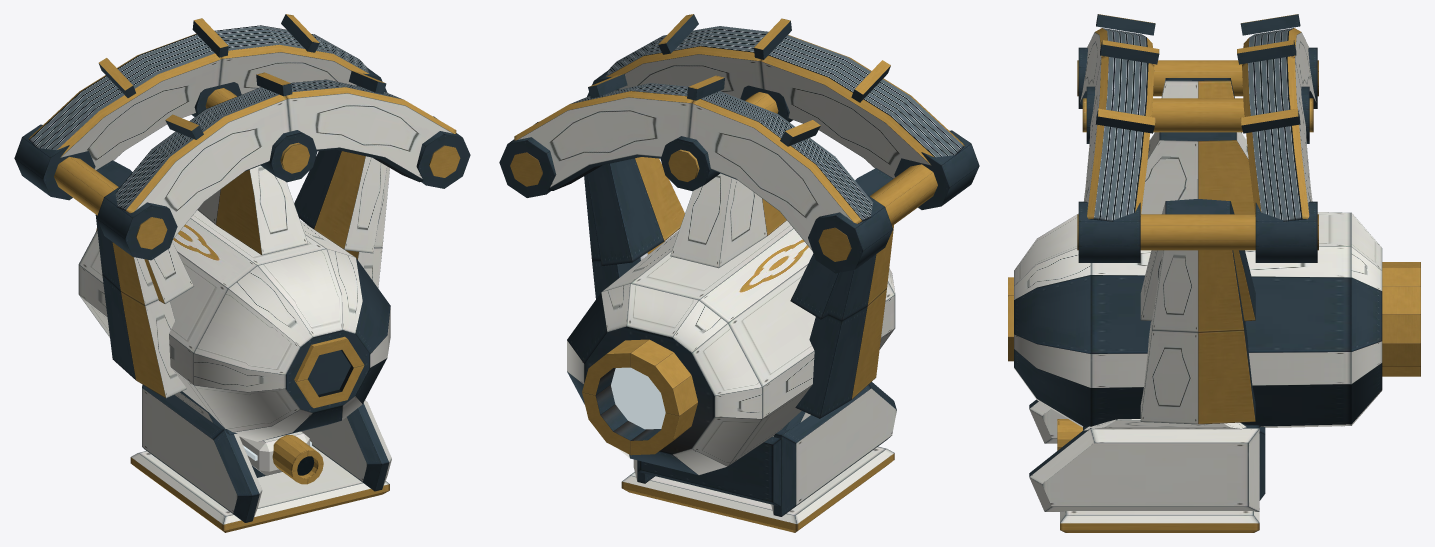
File: cassini-europa-l01-laser.glb
3 views of the same model, side by side, from view 1: azimuth 30°, elevation 25°; view 2: azimuth 150°, elevation 25°; view 3: azimuth 270°, elevation 25° (orthographic). The views are drawn at different scales.
Parts seen in each view (by area): view 1: Drone; view 2: Drone; view 3: Drone.
Boxes of the visible parts, <box> form: Drone: <box>14,14,470,532</box>; Drone: <box>499,14,979,532</box>; Drone: <box>1008,14,1420,532</box>.
Bounding box in the file's own units: 1.33 × 1.53 × 1.28.
3 materials, 3 textured.
